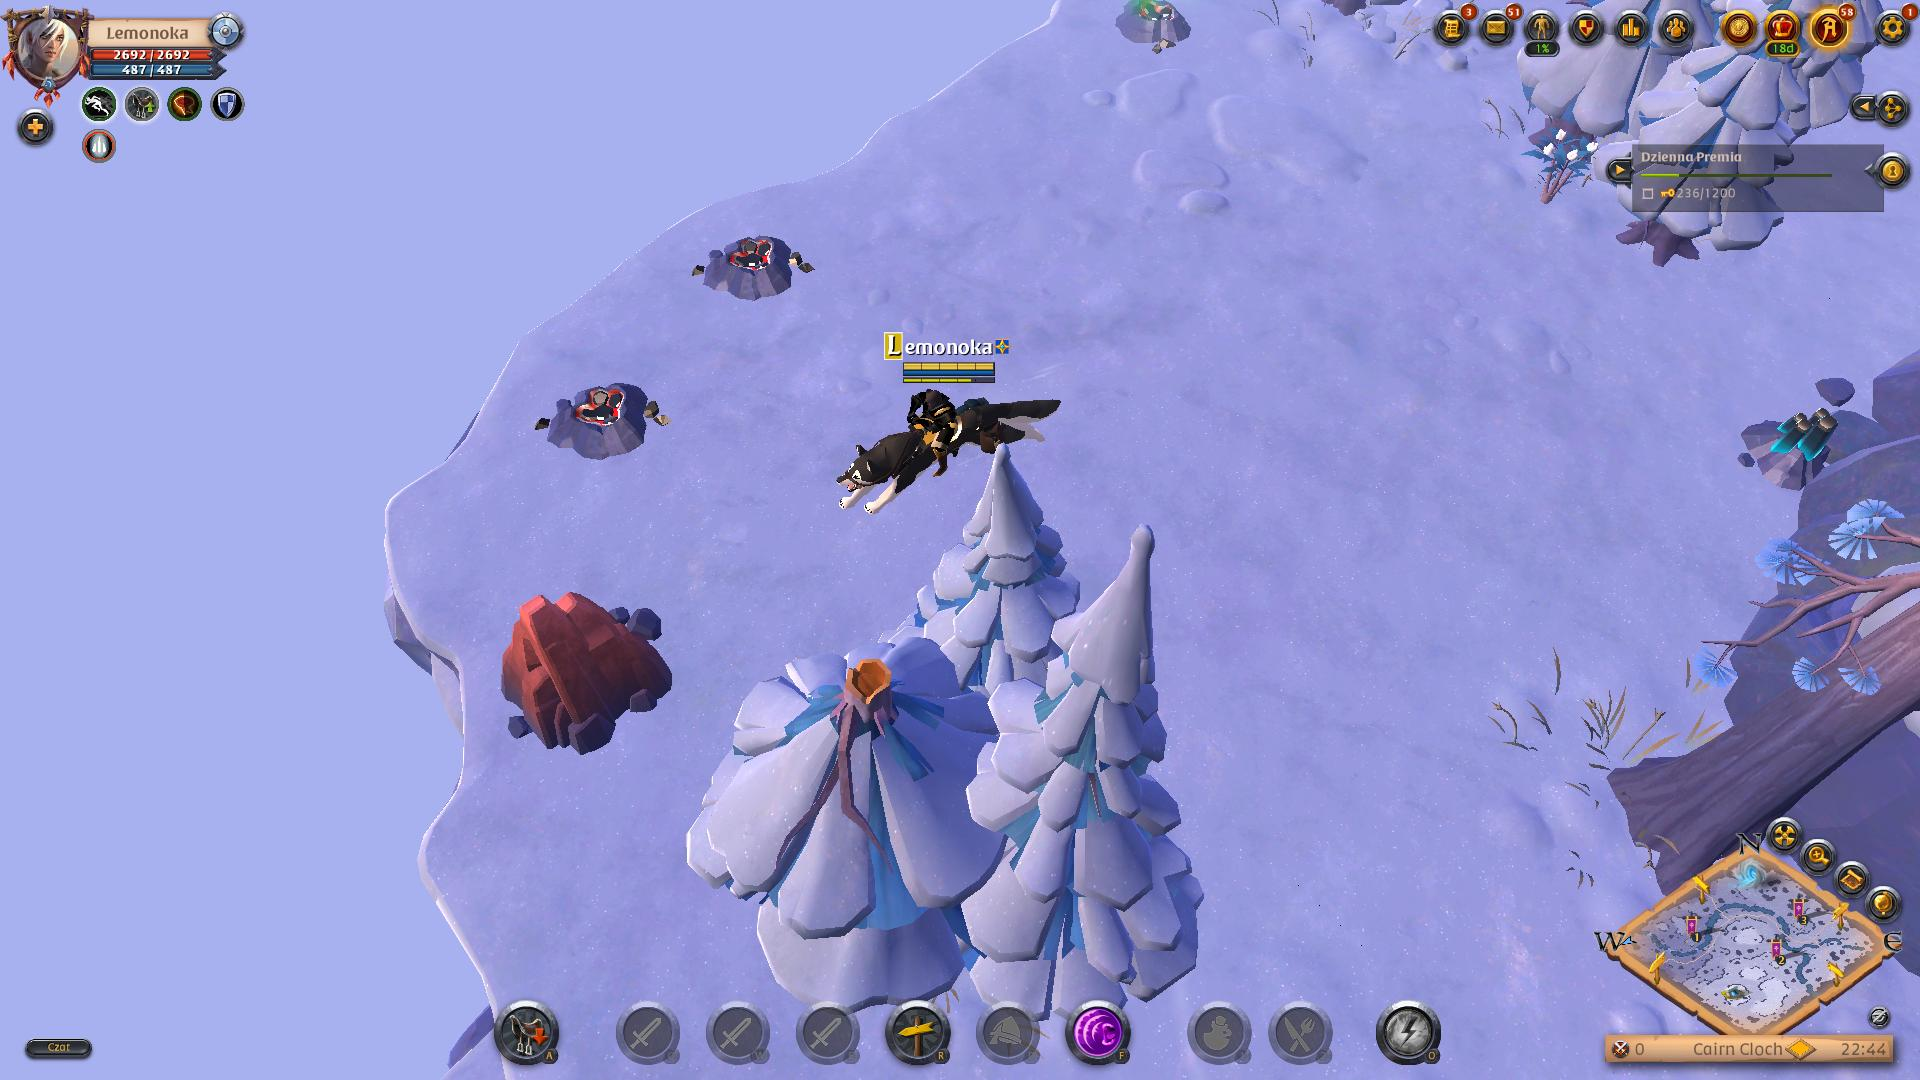fiber tier 4: (1528, 125, 1600, 208)
ore tier 4: (1747, 398, 1840, 491)
rock tier 5: (487, 588, 675, 756)
